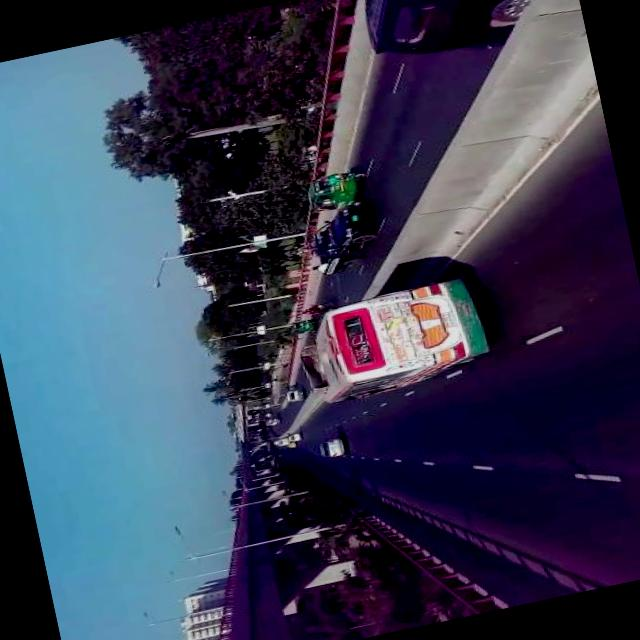bus: (286, 268, 498, 411)
car: (312, 435, 348, 462)
motorcycle: (296, 164, 375, 216), (286, 316, 319, 338), (298, 300, 338, 318)
truck: (298, 201, 384, 280)
